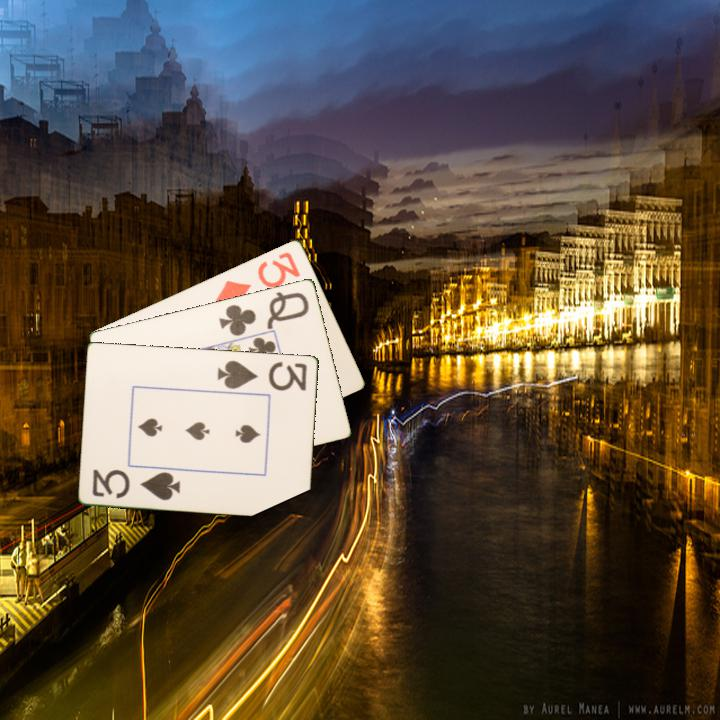3d: (211, 248, 303, 309)
3s: (214, 356, 310, 394), (89, 466, 183, 503)
Qc: (216, 287, 312, 339)
